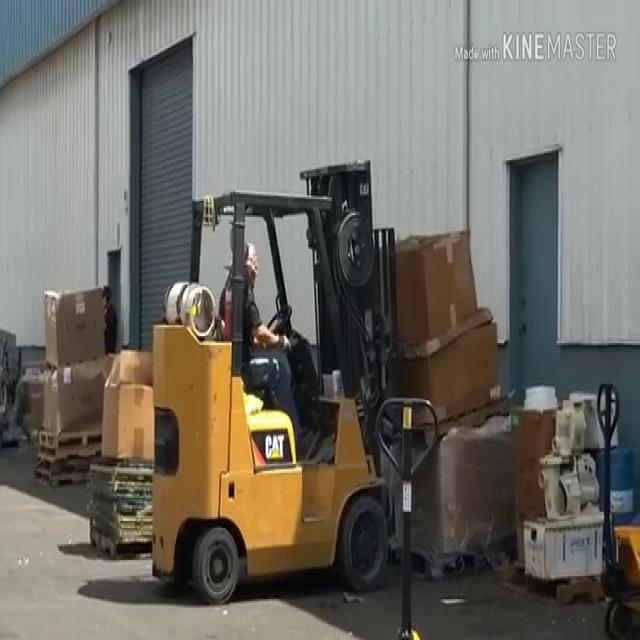Chariot elevateur: (148, 156, 398, 612)
